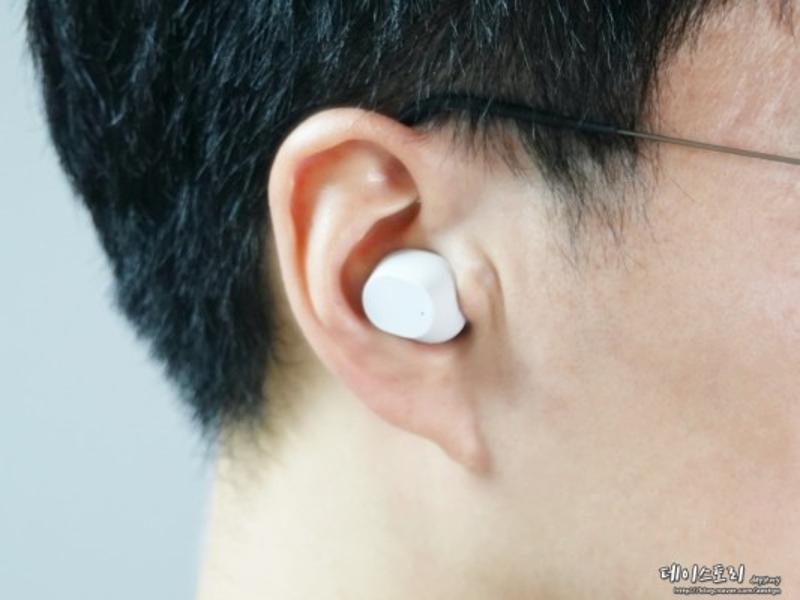headphone: (359, 244, 470, 345)
